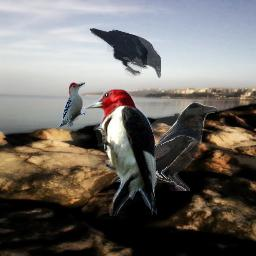Crow: (112, 102, 219, 191), (89, 28, 161, 78), (125, 135, 197, 183)
Woodpecker: (82, 88, 158, 216), (58, 82, 86, 128)
